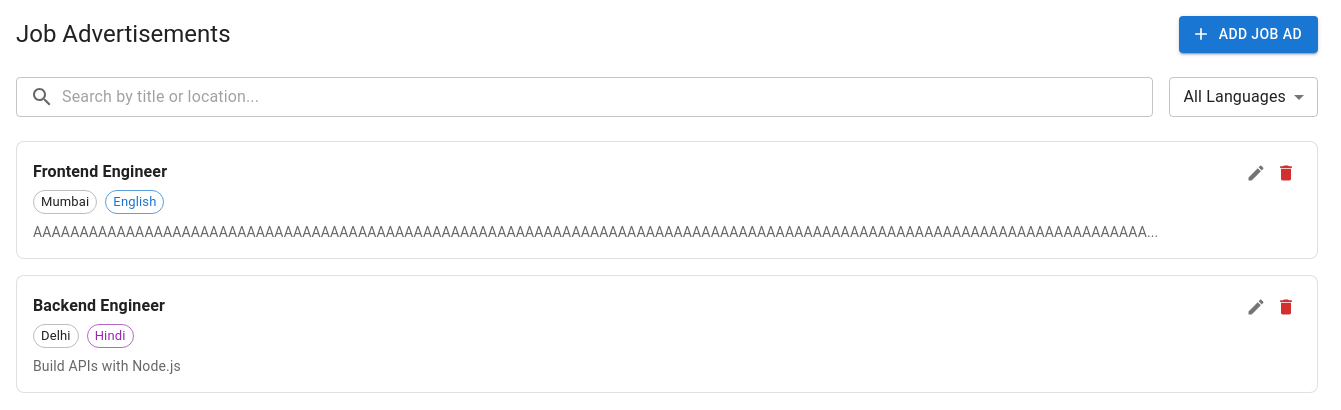
Test: JobAdsListPage › filters job ads by language
Click the dropdown.
click(1235, 96)  # box 1184,87 -> 1286,106
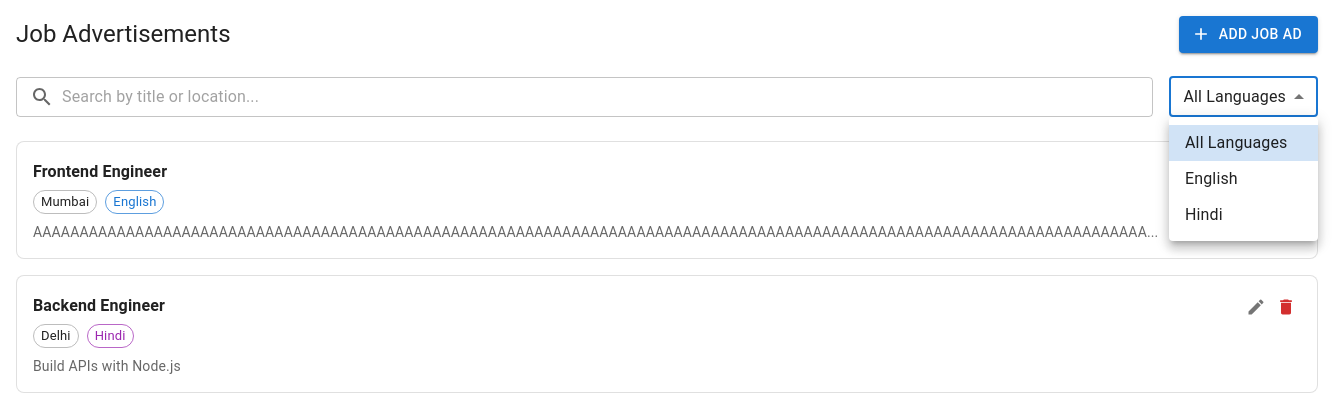
Click the option "English".
click(1211, 178)  # box 1185,169 -> 1238,188
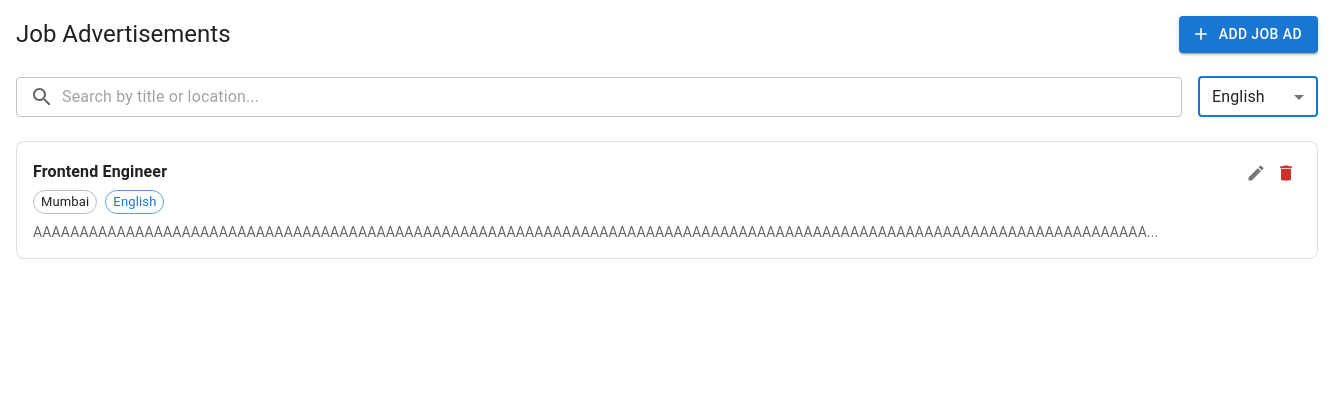
Expected: the heading "Frontend Engineer" is shown, 33,162 -> 167,180
Expected: the heading "Backend Engineer" is gone
